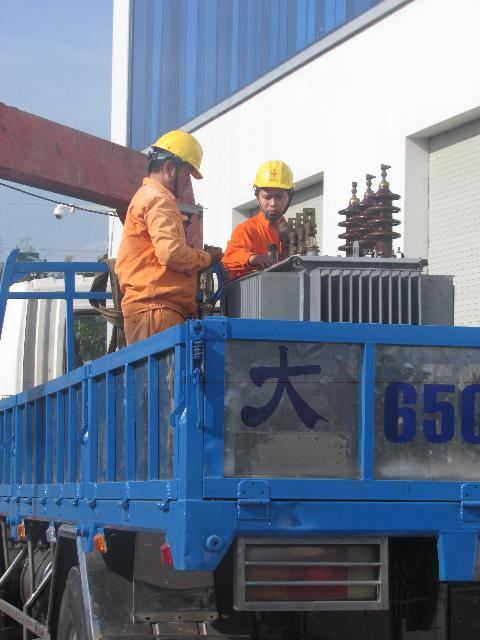helmet: (149, 128, 213, 178), (251, 152, 300, 198)
